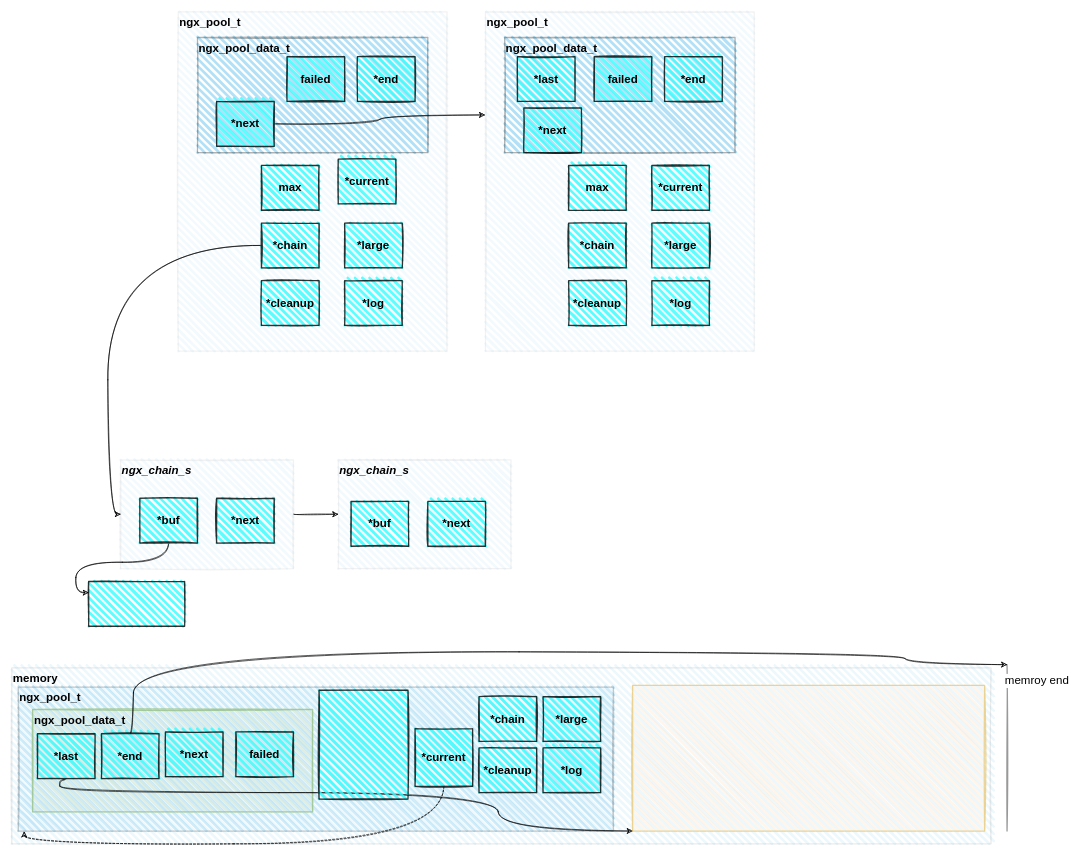
Image size: 1080x855. Some labels were removed from this diagram. Here are the shapes that lost their labels. From the top down, the box of each, then its label:
(88, 580, 185, 627): ngx_buf_t
(318, 689, 408, 799): max (可分配的最大内存 free_memory - sizeof(ngx_pool_t) or ngx_pagesize-1 )
(632, 684, 985, 831): free_memory
